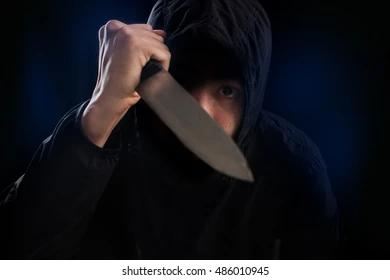Knife: (0, 0, 340, 259), (136, 68, 255, 184), (97, 20, 172, 101)
